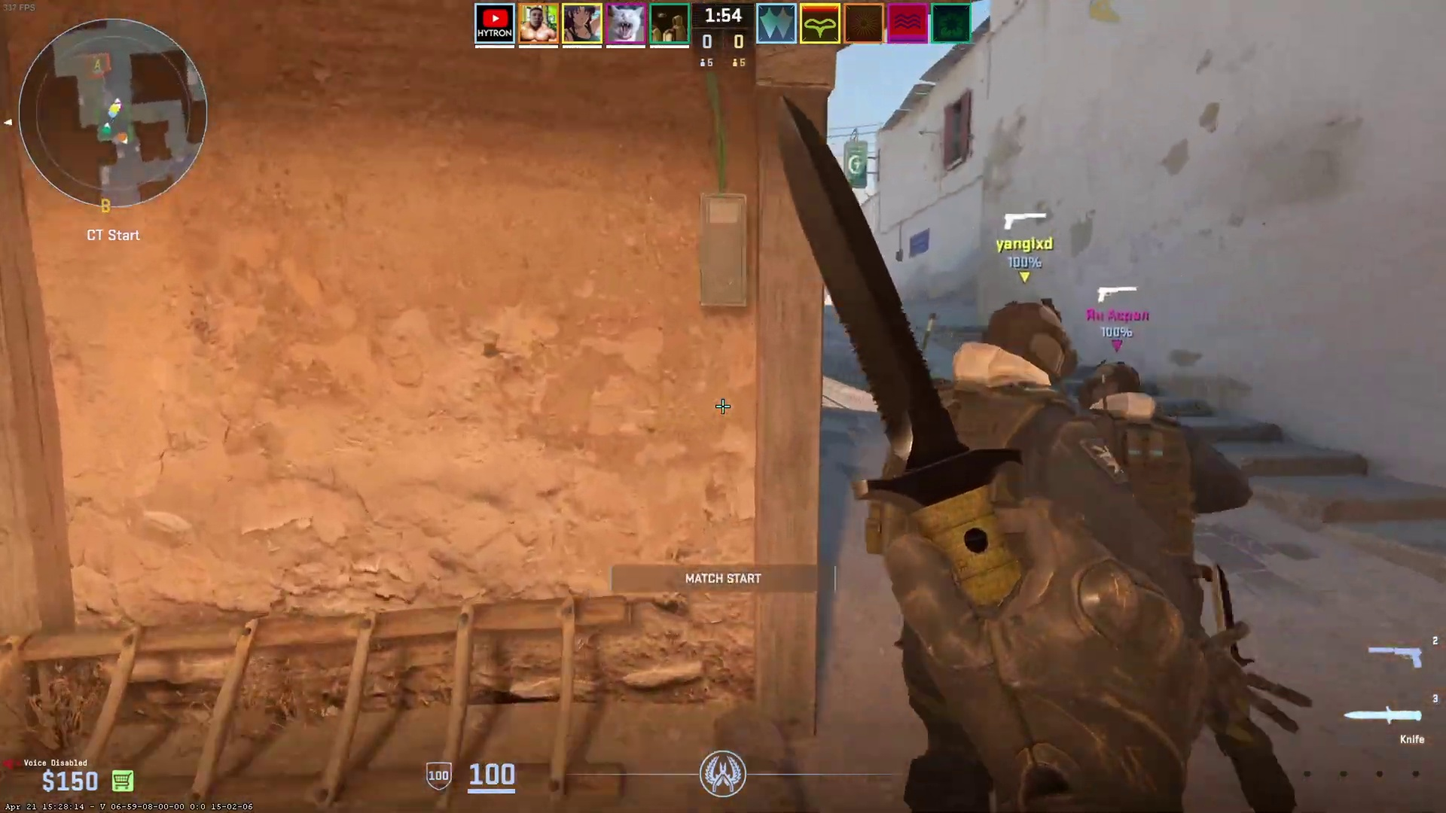CT: (895, 302, 1085, 808), (1090, 363, 1297, 802)
